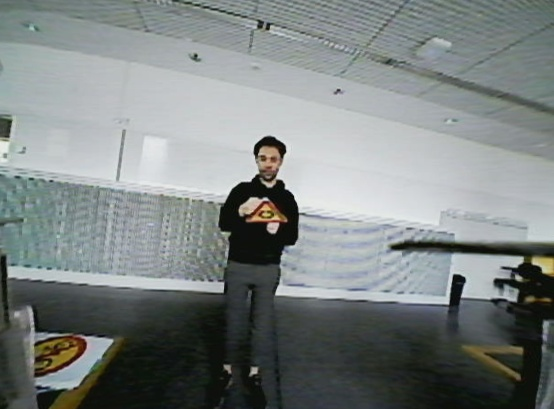roundabout_warning: (242, 198, 290, 224)
